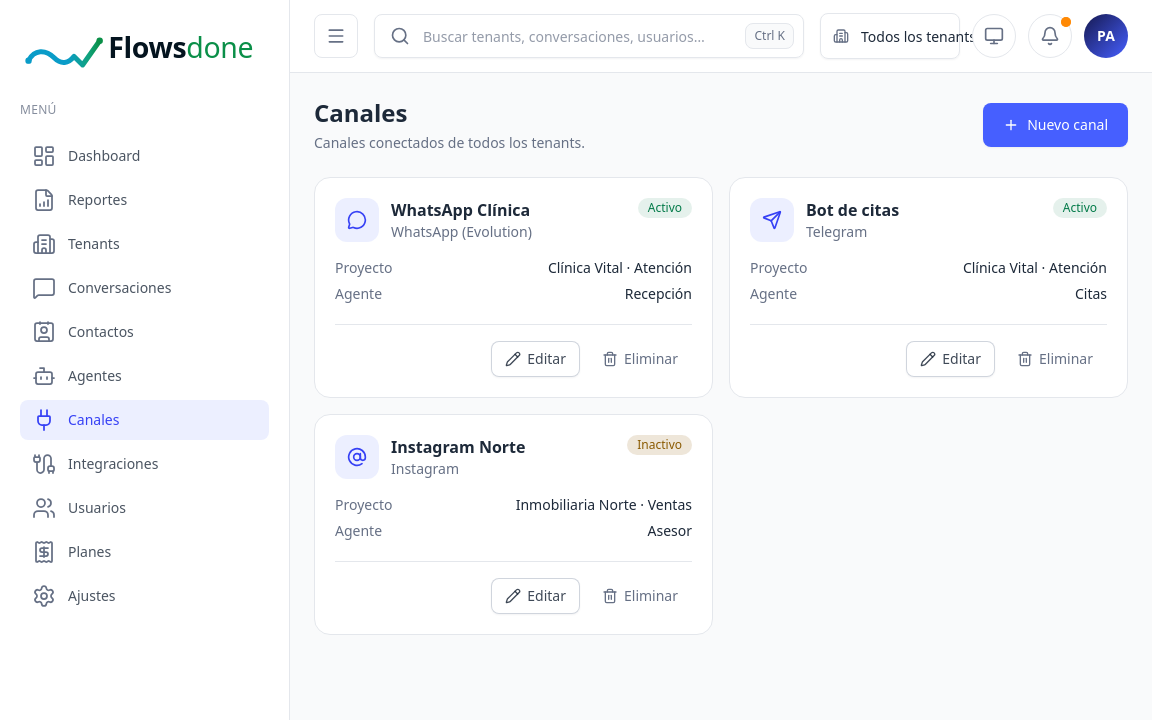
Test: listado › el selector de tenant recorta la lista, y un tenant sin canales muestra el estado vacío
The image size is (1152, 720).
Expected: the heading "Canales" is shown, [314,96,408,129]
Step 1. Select "Clínica Vital" in the dropdown named "Tenant activo" → {"x": 928, "y": 36}, box [857,14,998,58]
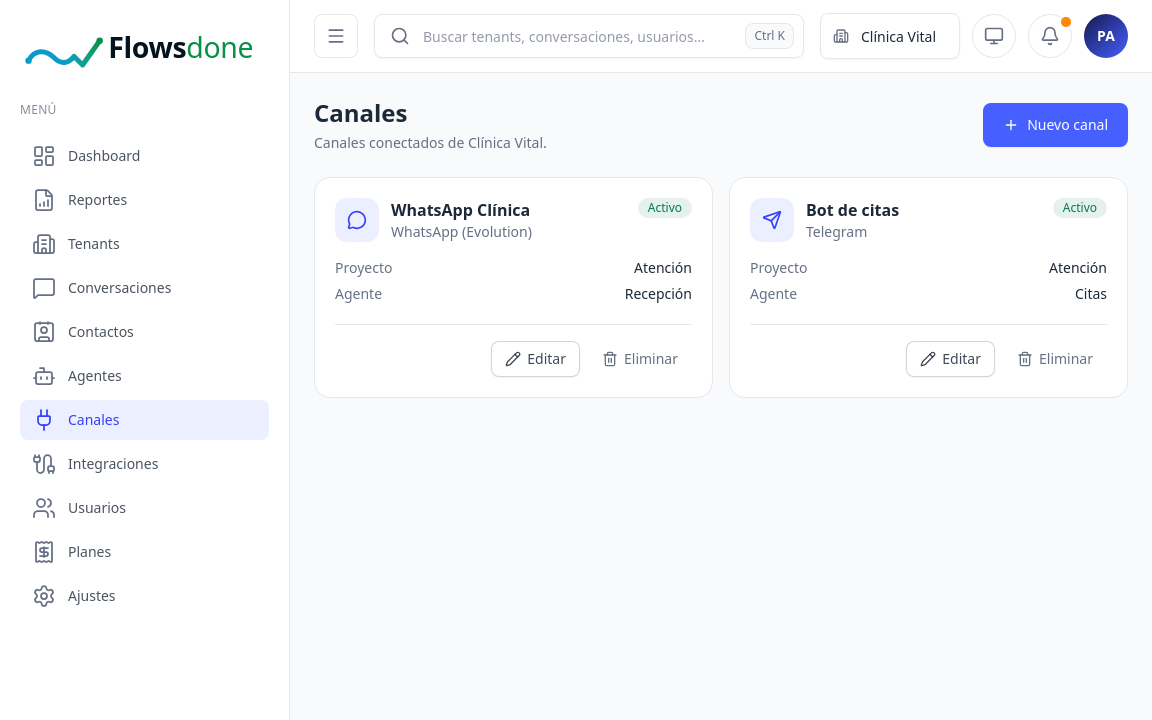
Expected: the text "Canales conectados de Clínica Vital." is shown, [314,133,547,153]
Step 2. Select "Inmobiliaria Norte" in the dropdown named "Tenant activo" → {"x": 928, "y": 36}, box [857,14,998,58]
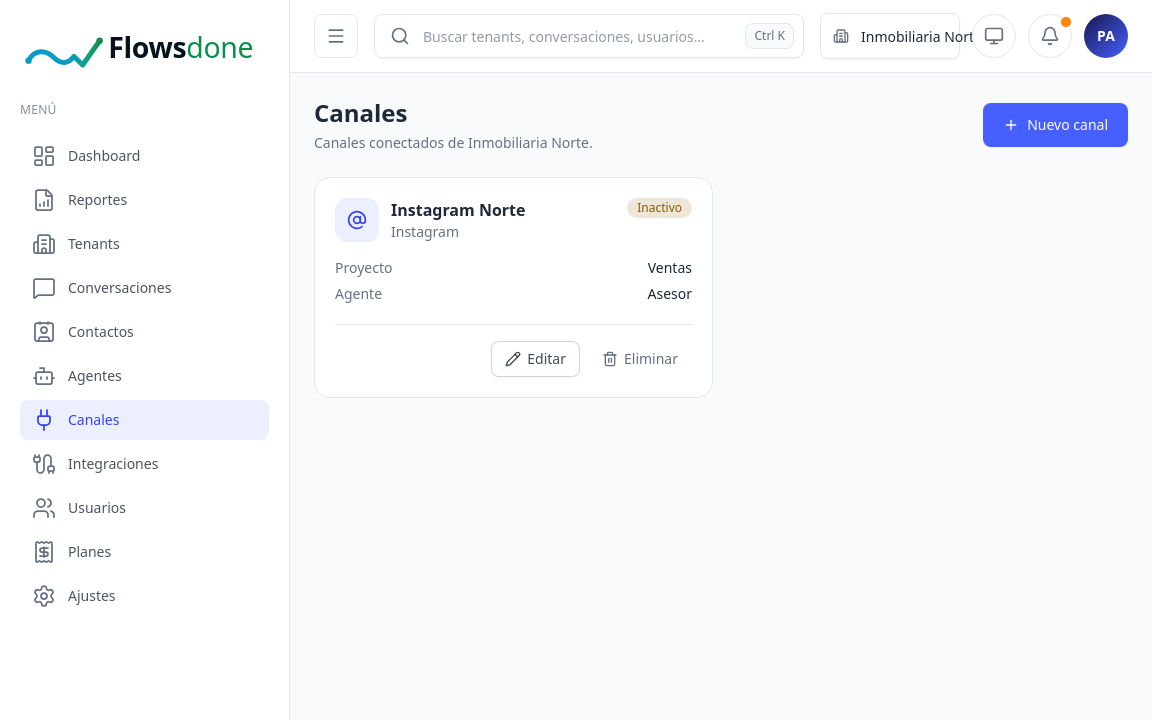
Step 3. Select "Tienda Aurora" in the dropdown named "Tenant activo" → {"x": 928, "y": 36}, box [857,14,998,58]
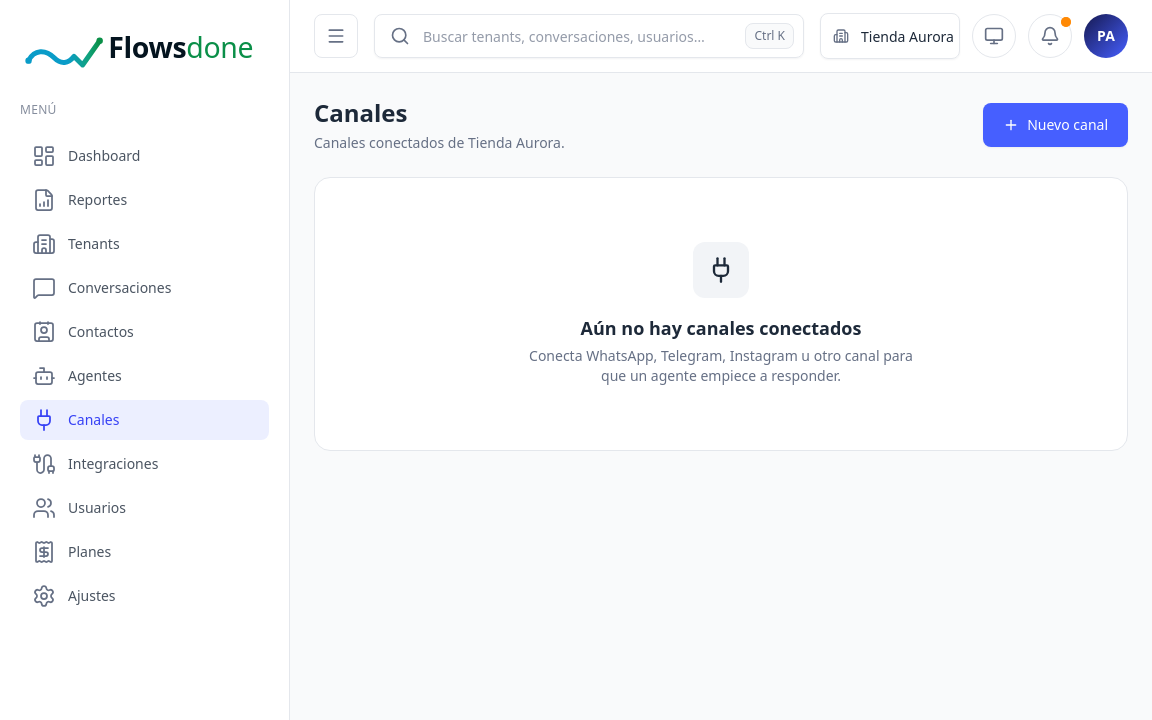
Expected: the heading "Aún no hay canales conectados" is shown, [581,314,862,342]
